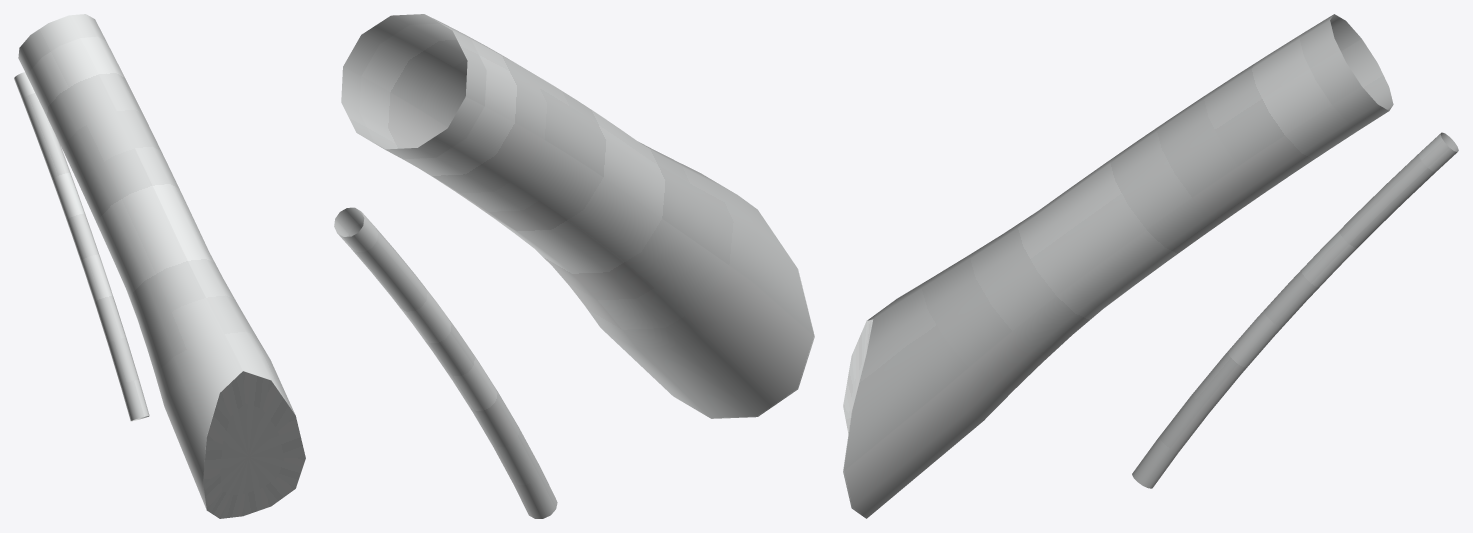
The model's file is luminairearm_laupsweep10ft_c0_thin.obj.
3 renders of one model, left to right at view 1: azimuth 30°, elevation 25°; view 2: azimuth 150°, elevation 25°; view 3: azimuth 270°, elevation 25°, orthographic. The views are drawn at different scales.
Visible parts, largest first — view 1: luminairearm_laupsweep10ft_c0_thin; view 2: luminairearm_laupsweep10ft_c0_thin; view 3: luminairearm_laupsweep10ft_c0_thin.
Boxes of the visible parts, bbox=[...] form: luminairearm_laupsweep10ft_c0_thin: bbox=[14, 14, 305, 518]; luminairearm_laupsweep10ft_c0_thin: bbox=[334, 14, 814, 518]; luminairearm_laupsweep10ft_c0_thin: bbox=[843, 14, 1458, 518].
Size of the model in its own units: 0.3375 by 1.17 by 1.34.
